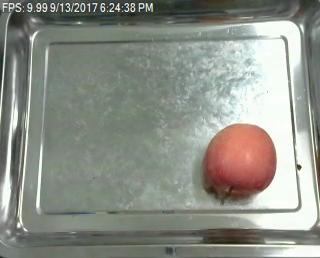apple: (203, 123, 278, 197)
